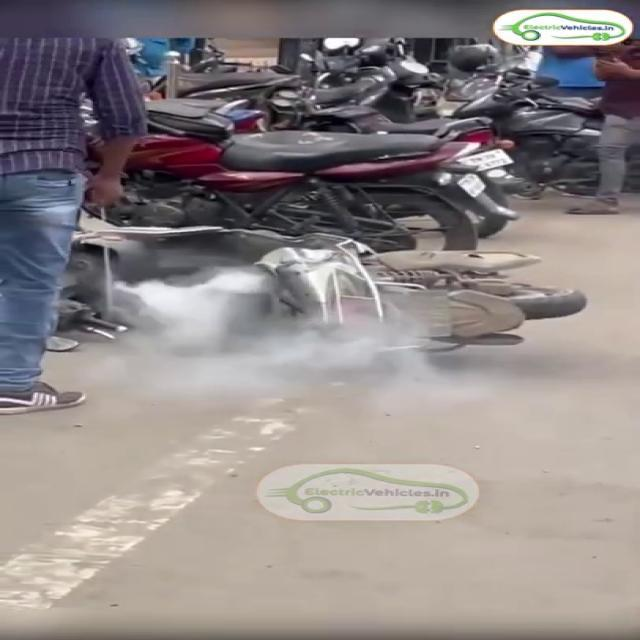Smoke: (58, 247, 454, 393)
